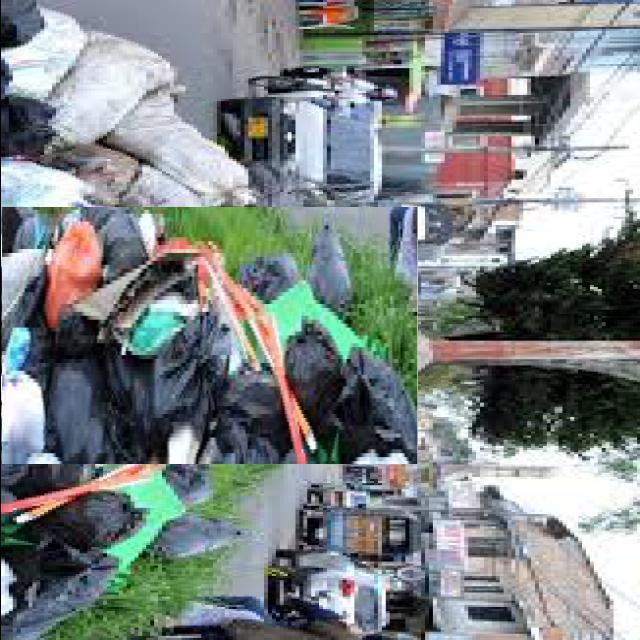Trashbag: (64, 360, 135, 482), (295, 331, 362, 438), (158, 316, 227, 417)
